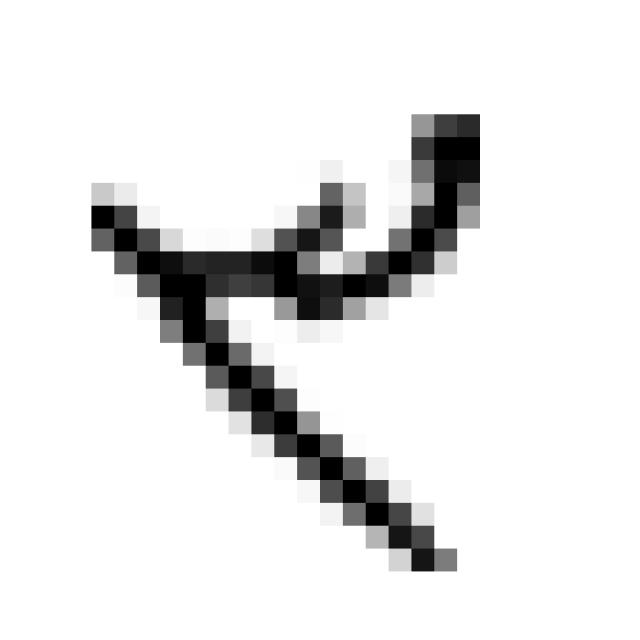3 -three-: (69, 84, 508, 598)
